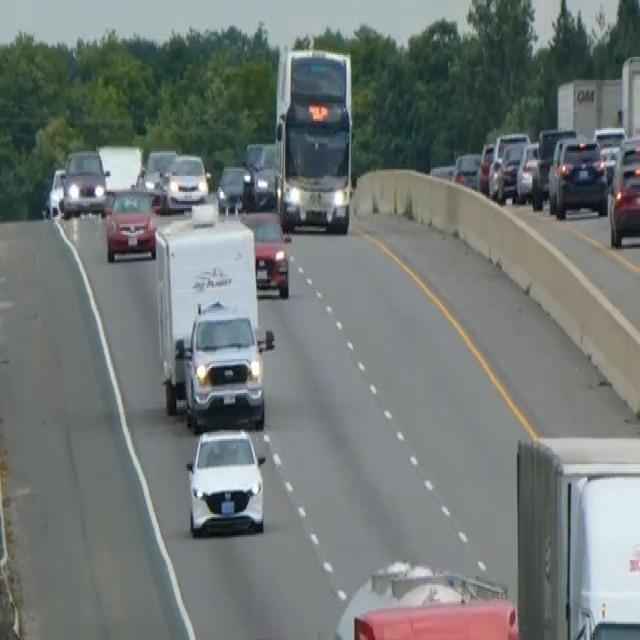bus: (272, 42, 356, 234)
car: (184, 423, 267, 539), (547, 133, 608, 219), (240, 208, 291, 297), (105, 185, 158, 261), (606, 133, 639, 247), (531, 126, 576, 206), (60, 146, 109, 217), (163, 151, 209, 212), (243, 140, 277, 208), (141, 148, 176, 205), (495, 139, 526, 201), (216, 162, 251, 213), (515, 138, 540, 202), (252, 164, 278, 208), (452, 150, 481, 188), (45, 165, 66, 217), (475, 140, 494, 194)
lorry: (515, 432, 639, 638), (334, 556, 519, 638)
truck: (152, 202, 273, 426)
